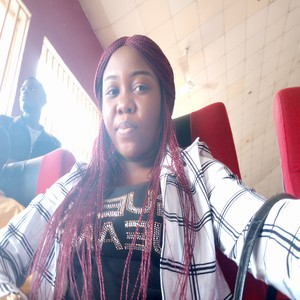Fulokoja_female_student: (73, 35, 194, 300)
